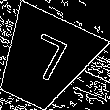L_SW: (16, 31, 71, 90)
